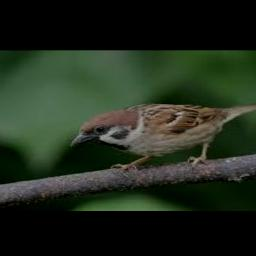Sparrow: (71, 101, 256, 171)
